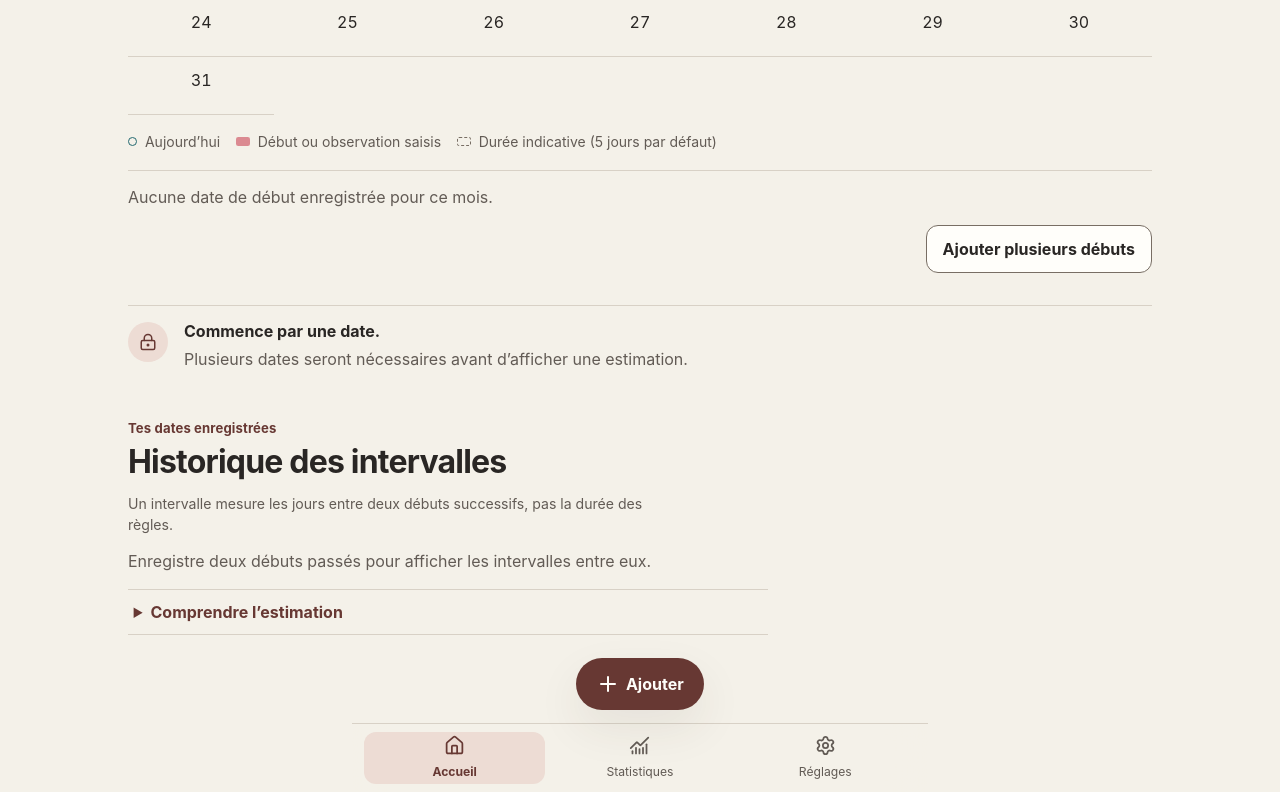
Test: PeriodPeriods app › explains the existing estimate rules in a keyboard-operable disclosure
This screenshot has width=1280, height=792.
(page scrolled)
Click the heading "Comprendre l’estimation": (247, 612) [150,602,343,622]
(page scrolled)
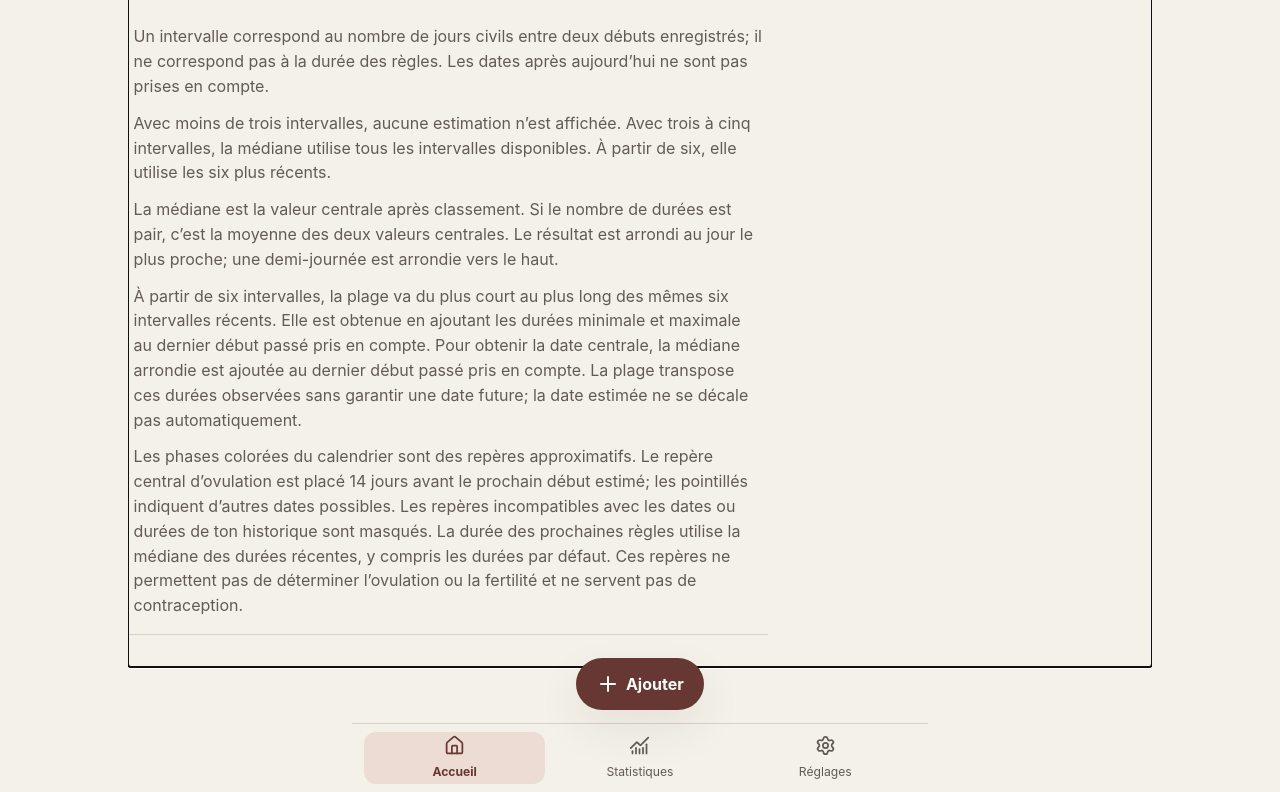
Expected: the text "à partir de six, elle utilise les six plus récents" is shown, [134,113,751,182]
Expected: the text "valeur centrale après classement" is shown, [134,199,753,269]
Expected: the text "durées minimale et maximale au dernier début passé" is shown, [134,286,748,430]
